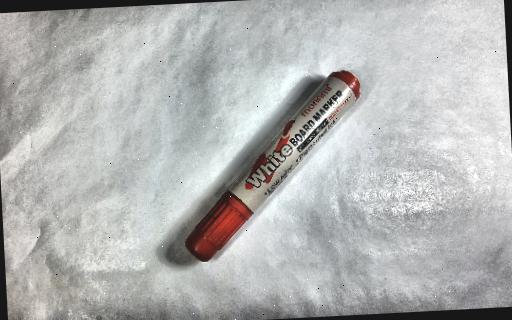marcador rojo: (186, 71, 360, 261)
